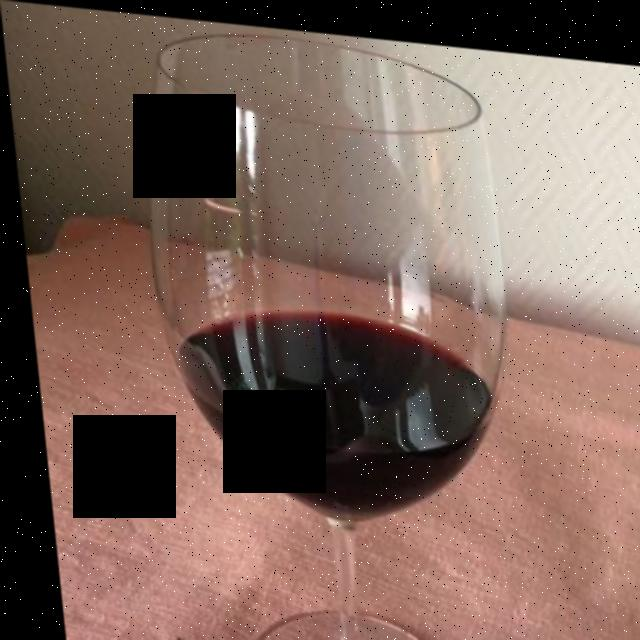wine-red: (182, 304, 482, 493), (187, 305, 480, 482)
